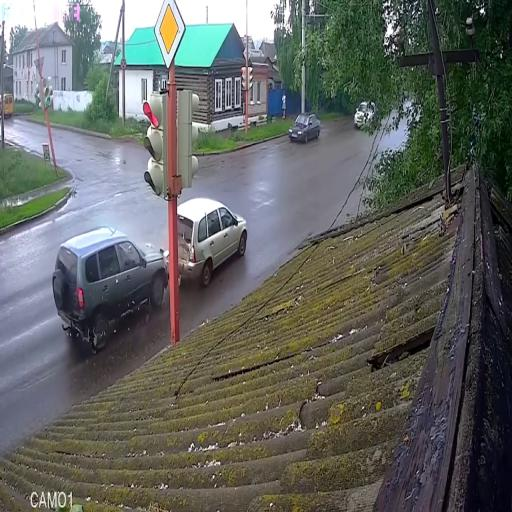小汽车: (53, 224, 168, 349), (176, 196, 249, 284), (289, 110, 322, 147), (352, 100, 384, 130), (0, 88, 16, 121)
